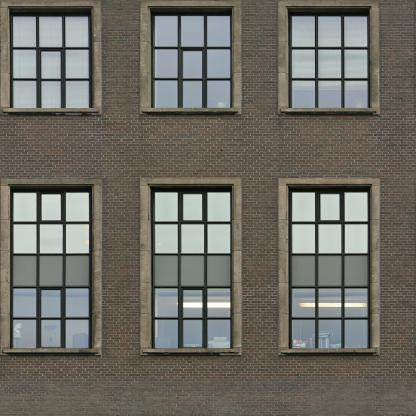Building Outline: (0, 0, 416, 416)
Facade: (0, 0, 416, 416)
Floor: (0, 0, 416, 144), (0, 157, 416, 261)
Floor Slab: (0, 402, 416, 416), (0, 261, 416, 275), (0, 144, 416, 158)
Sill: (281, 348, 377, 352), (3, 348, 99, 352), (142, 348, 238, 352), (281, 108, 377, 112), (3, 108, 99, 112), (142, 108, 238, 112)
Window: (0, 275, 416, 403), (286, 184, 371, 349), (8, 184, 93, 349), (149, 184, 234, 348), (286, 7, 371, 109), (8, 7, 93, 109), (149, 7, 234, 109)
